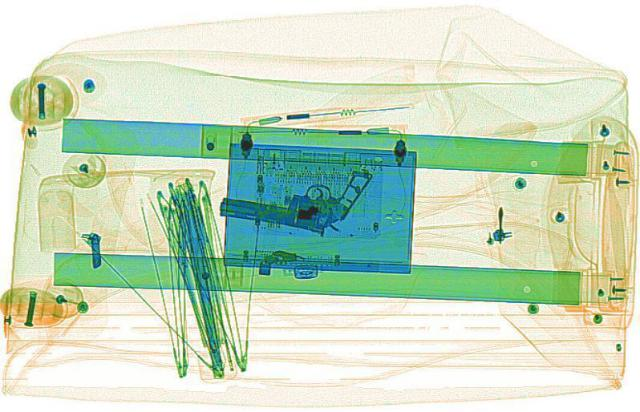Gun: (212, 147, 374, 237)
